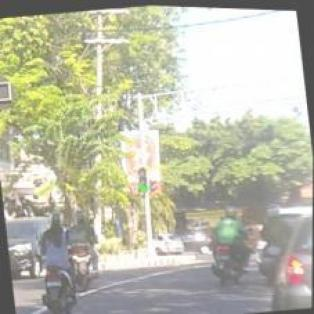Semaforo Verde: (136, 167, 150, 192)
